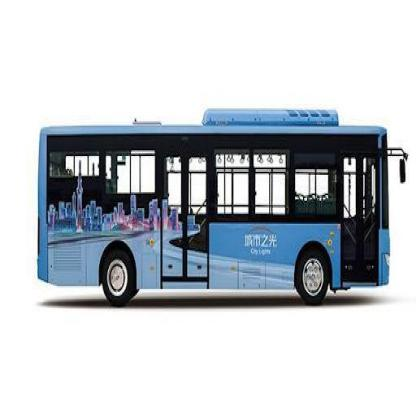Bus: (29, 82, 411, 324)
